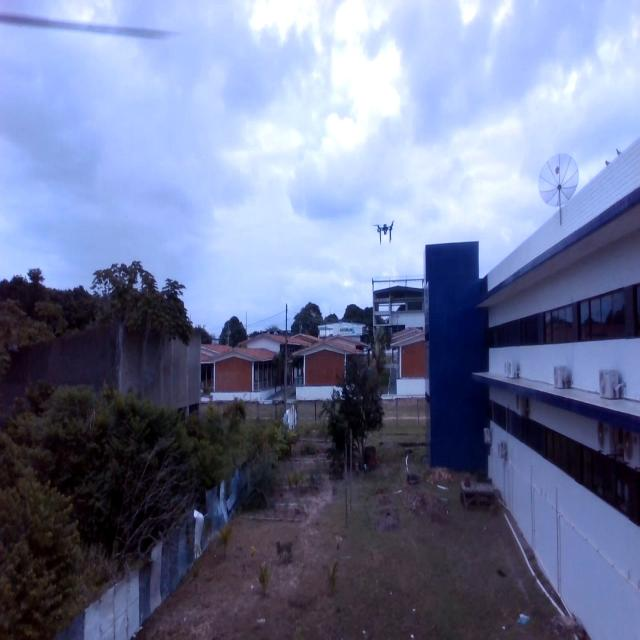-uav-: (372, 218, 396, 255)
